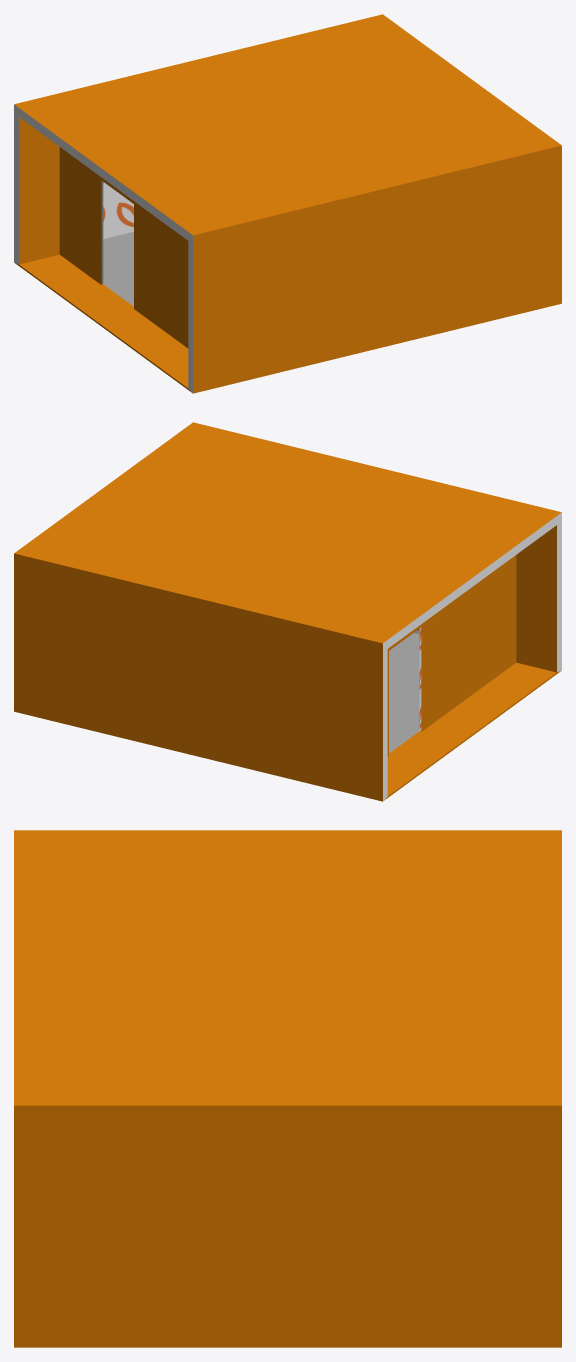
The model's file is VCY Middle room.fbx.
The picture shows the model from 3 angles, top to bottom: view 1: azimuth 30°, elevation 25°; view 2: azimuth 150°, elevation 25°; view 3: azimuth 270°, elevation 25°; orthographic projection. The views are drawn at different scales.
Visible parts, largest first — view 1: VCY_Middle_Room; view 2: VCY_Middle_Room; view 3: VCY_Middle_Room.
Part boxes in pixels (x1,y1,x2,y2): VCY_Middle_Room: [14, 14, 561, 393]; VCY_Middle_Room: [14, 422, 561, 801]; VCY_Middle_Room: [14, 830, 561, 1347].
Bounding box in the file's own units: 875 × 359 × 736.
